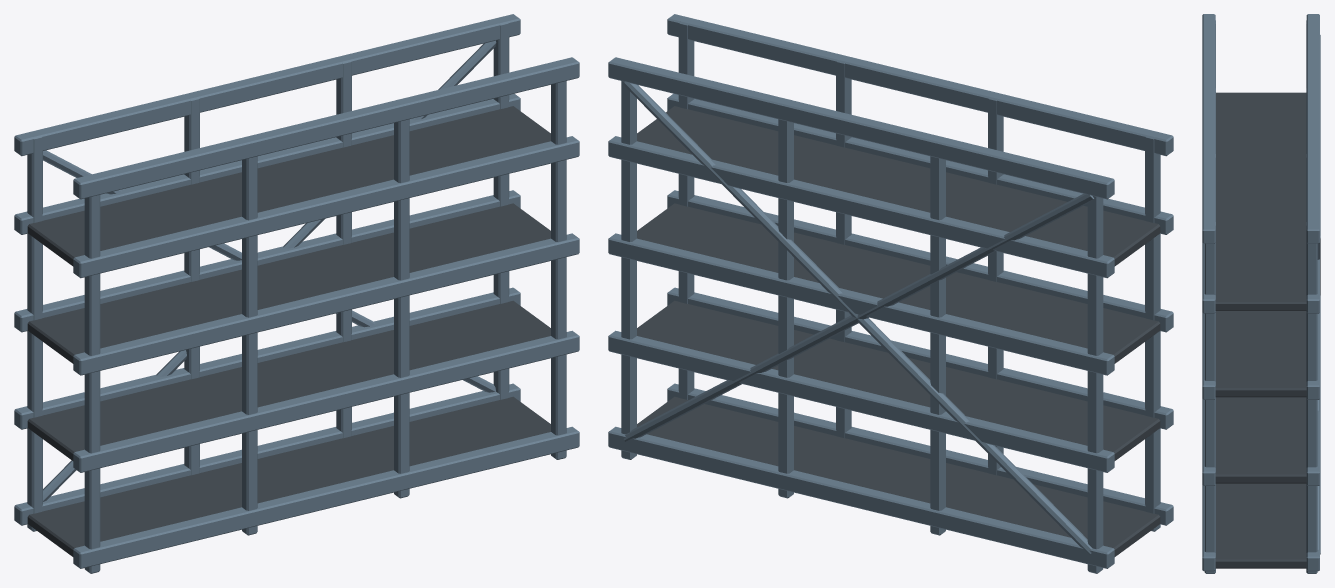
Rendered from WarehouseShelf_Empty.glb.
3 views of the same model, side by side, from view 1: azimuth 30°, elevation 25°; view 2: azimuth 150°, elevation 25°; view 3: azimuth 270°, elevation 25° (orthographic). The views are drawn at different scales.
Parts seen in each view (by area): view 1: FTF_Prop_WarehouseShelf_Empty_StaticMesh; view 2: FTF_Prop_WarehouseShelf_Empty_StaticMesh; view 3: FTF_Prop_WarehouseShelf_Empty_StaticMesh.
Part boxes in pixels (left/top/right/bottom): FTF_Prop_WarehouseShelf_Empty_StaticMesh: left=14, top=14, right=579, bottom=573; FTF_Prop_WarehouseShelf_Empty_StaticMesh: left=608, top=14, right=1173, bottom=573; FTF_Prop_WarehouseShelf_Empty_StaticMesh: left=1202, top=14, right=1320, bottom=573.
Size of the model in its own units: 3.82 by 2.88 by 0.885.
